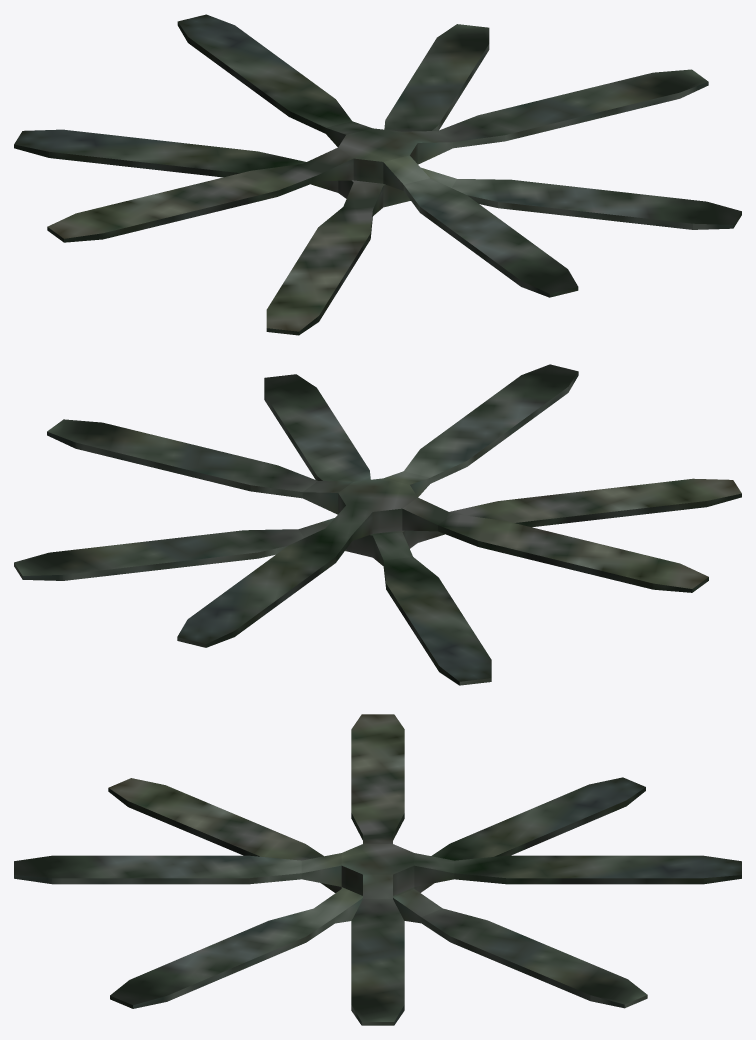
The model's file is Fan.glb.
3 renders of one model, top to bottom at view 1: azimuth 30°, elevation 25°; view 2: azimuth 150°, elevation 25°; view 3: azimuth 270°, elevation 25°, orthographic. The views are drawn at different scales.
Visible parts, largest first — view 1: Cylinder; view 2: Cylinder; view 3: Cylinder.
Part boxes in pixels (<box>): Cylinder: <box>14,14,741,335</box>; Cylinder: <box>14,364,741,685</box>; Cylinder: <box>14,714,741,1025</box>.
Size of the model in its own units: 18.57 by 1.26 by 18.57.
Materials: 1 (1 with a texture image).
